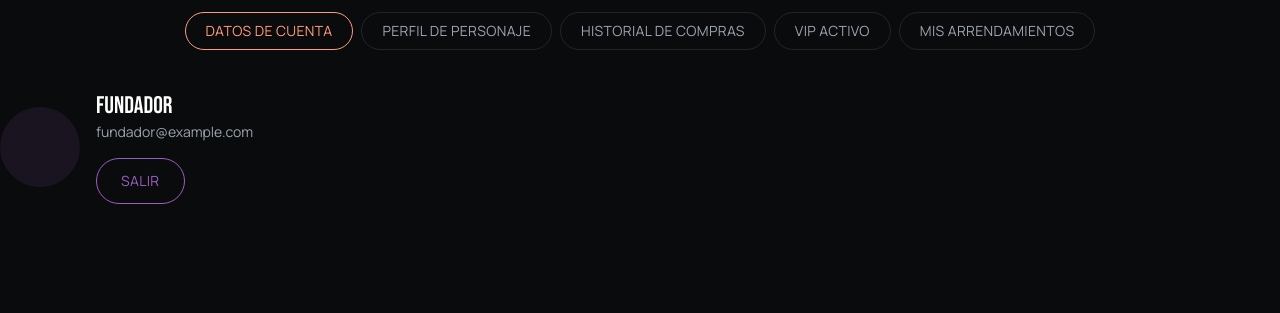
Test: AccountTabs › shows the empty state when another tab is selected
Click the tab "Perfil de Personaje" at (457, 31), box [361,12,552,50]
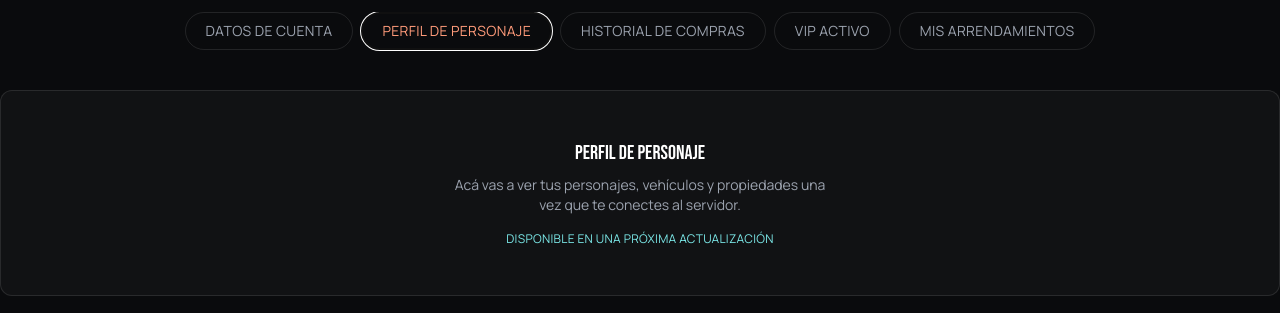
Check: the text "Disponible en una próxima actualización" is shown, box [506,231,774,247]
Check: the text "Fundador" is gone
